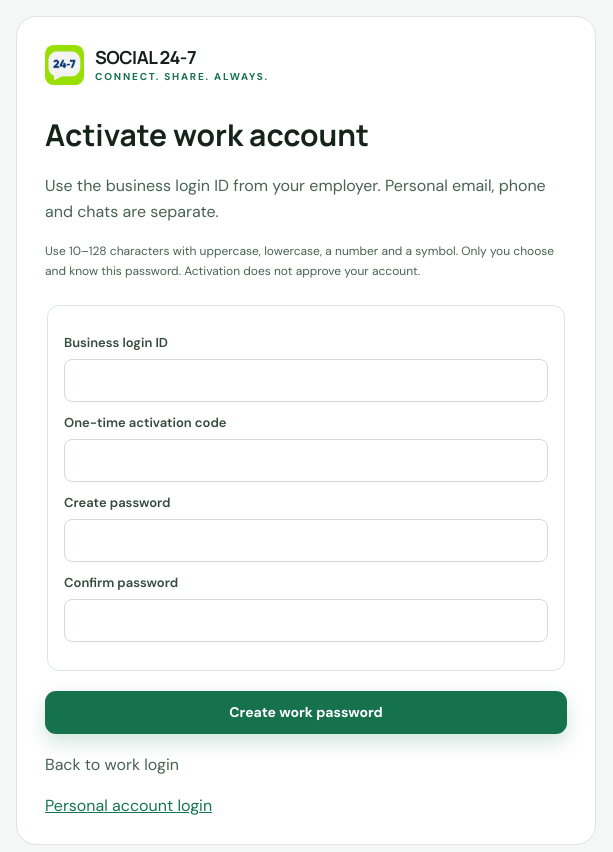
Test case: work activation UI › clears secrets after activation without claiming approval
This screenshot has width=613, height=852.
Type "qa.agent" into the field labelled "Business login ID" at (306, 380), box left=64, top=359, right=548, bottom=402
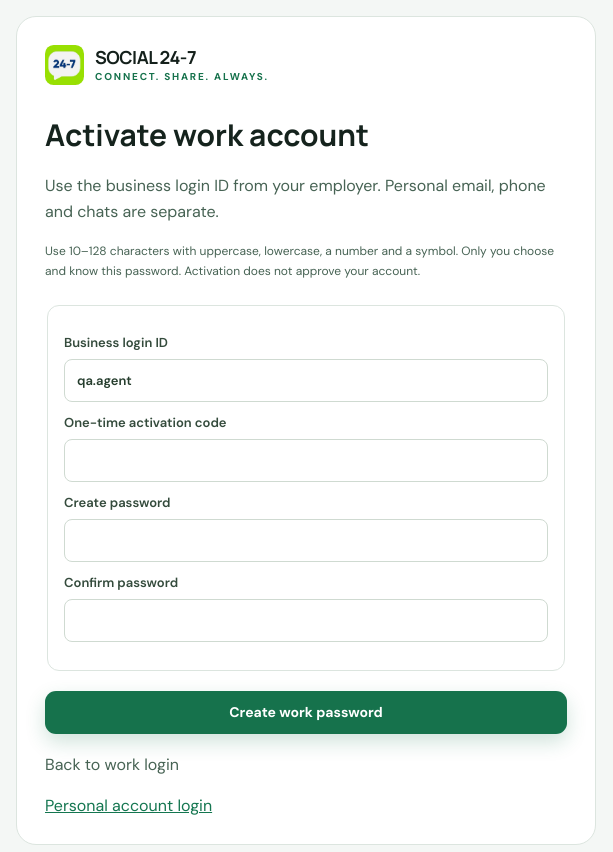
Type "FIXTURE" into the password field labelled "One-time activation code" at (306, 460), box left=64, top=439, right=548, bottom=482
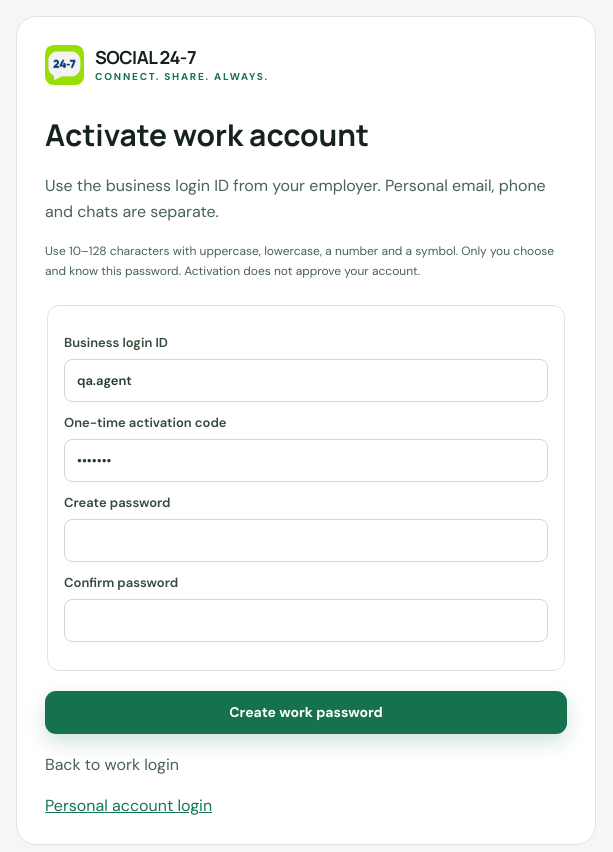
Type "FixtureOnly-ABC123" into the password field labelled "Create password" at (306, 540), box left=64, top=519, right=548, bottom=562
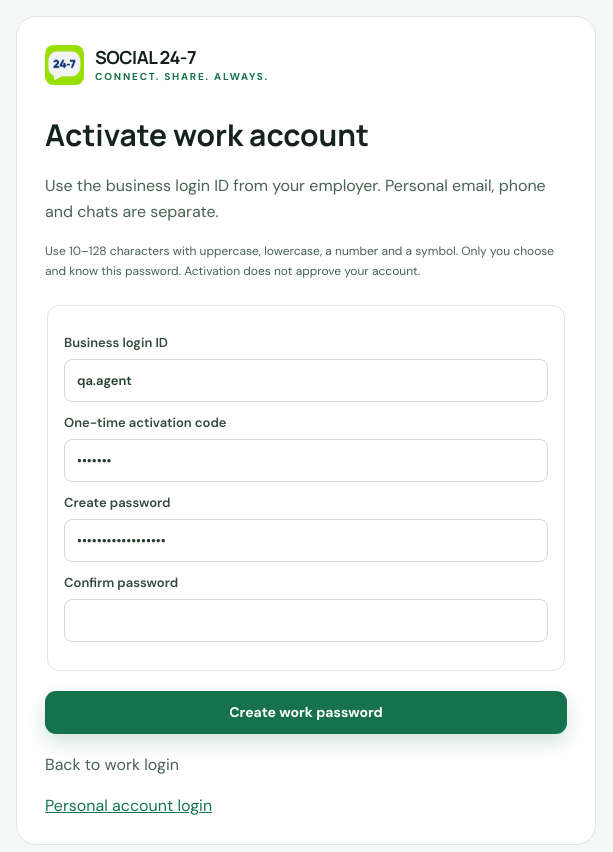
Type "FixtureOnly-ABC123" into the password field labelled "Confirm password" at (306, 620), box left=64, top=599, right=548, bottom=642
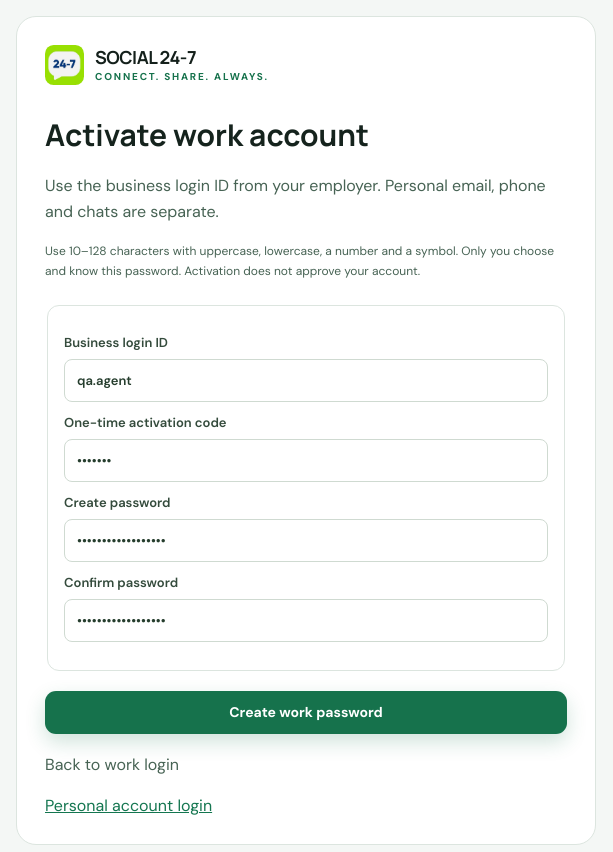
Click the button "Create work password" at (306, 712), box left=45, top=691, right=567, bottom=734
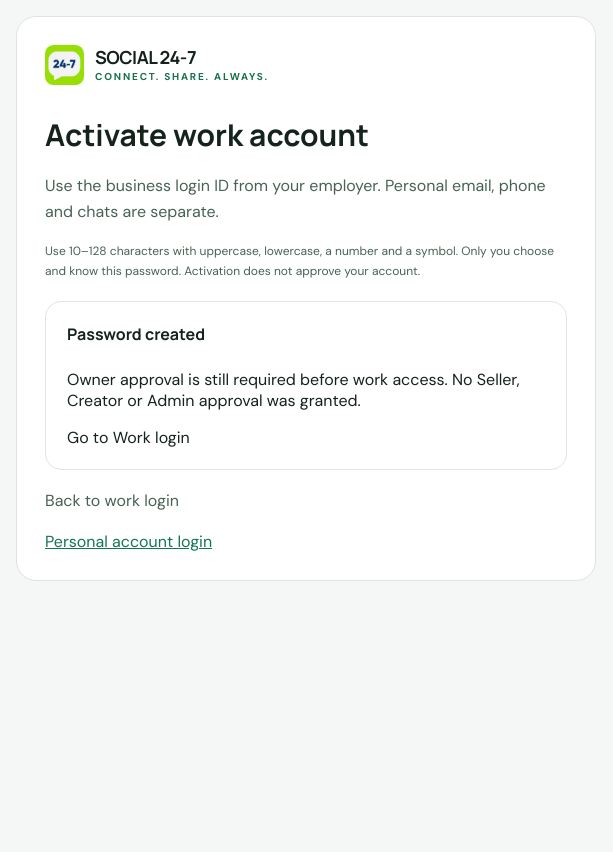
Expected: the text "Owner approval is still required" is shown, left=67, top=369, right=520, bottom=411
Expected: the label labelled "Create password" is gone
